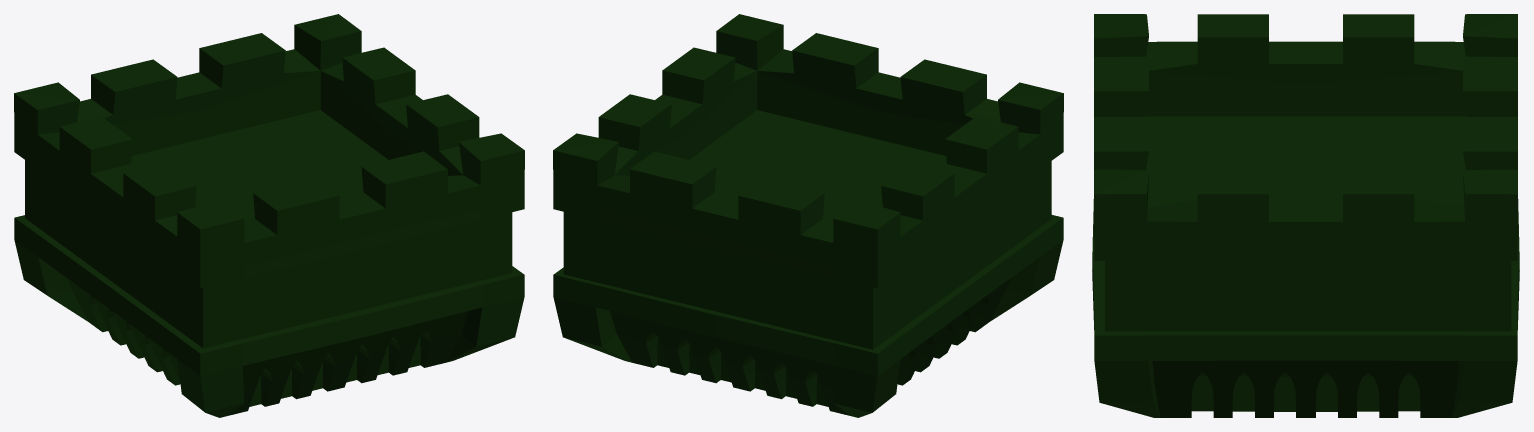
The model's file is square-top-2.fbx.
The picture shows the model from 3 angles, left to right: view 1: azimuth 30°, elevation 25°; view 2: azimuth 150°, elevation 25°; view 3: azimuth 270°, elevation 25°; orthographic projection. The views are drawn at different scales.
Visible parts, largest first — view 1: square-top-2; view 2: square-top-2; view 3: square-top-2.
Boxes of the visible parts, <box> form: square-top-2: <box>14,14,524,417</box>; square-top-2: <box>553,14,1063,417</box>; square-top-2: <box>1092,14,1519,417</box>.
Size of the model in its own units: 2.2 by 1.42 by 2.21.
